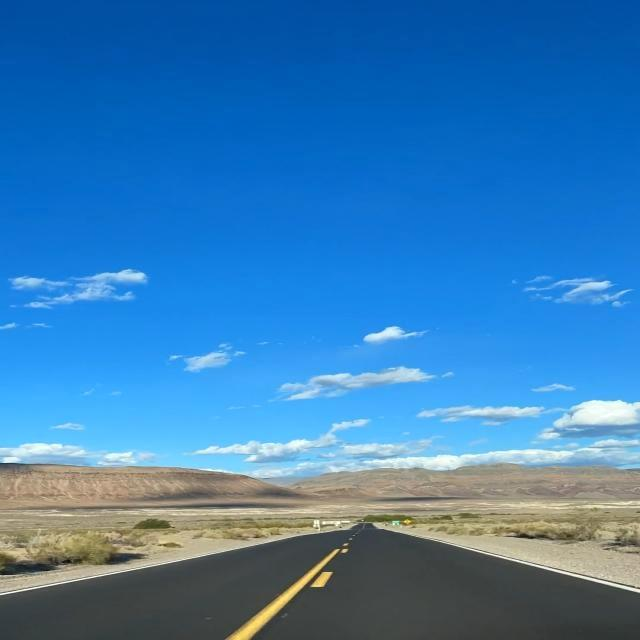lane: (225, 549, 340, 639)
road: (0, 523, 639, 639)
